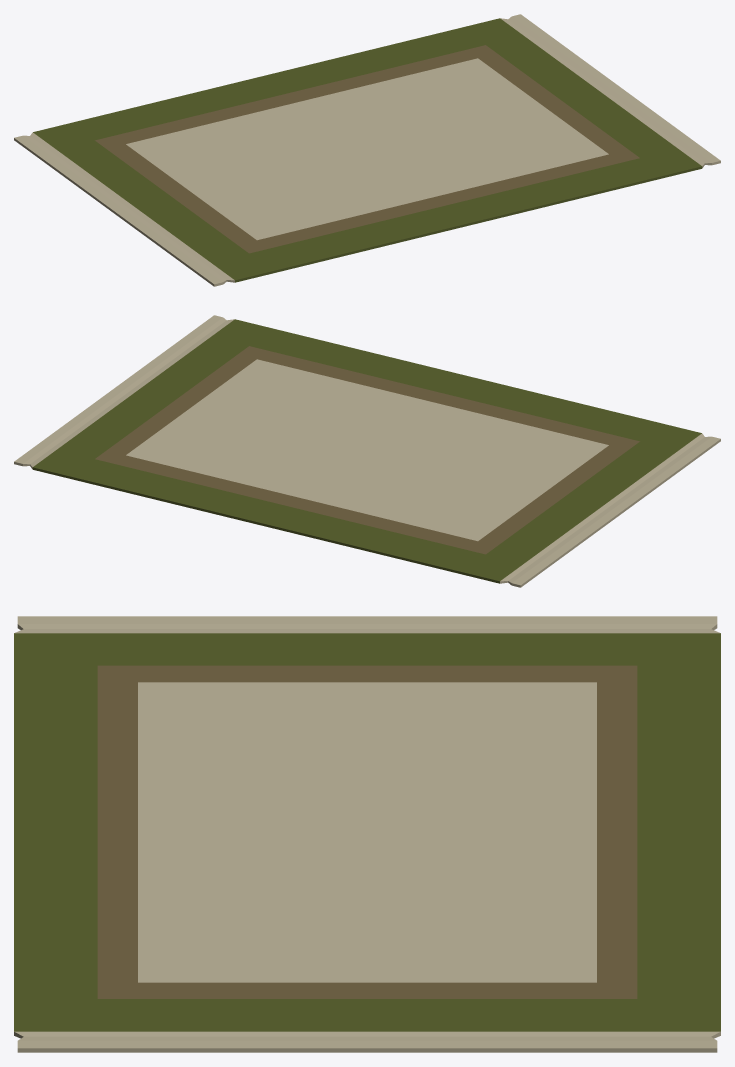
Rendered from carpet.gltf.
3 renders of one model, top to bottom at view 1: azimuth 30°, elevation 25°; view 2: azimuth 150°, elevation 25°; view 3: azimuth 270°, elevation 25°, orthographic. The views are drawn at different scales.
Visible parts, largest first — view 1: Carpet_Green; view 2: Carpet_Green; view 3: Carpet_Green.
Boxes of the visible parts, x1=… form: Carpet_Green: x1=14, y1=14, x2=720, y2=286; Carpet_Green: x1=14, y1=315, x2=720, y2=587; Carpet_Green: x1=14, y1=616, x2=720, y2=1052.
Bounding box in the file's own units: 4.34 × 0.0196 × 3.
Materials: 1 (1 with a texture image).
